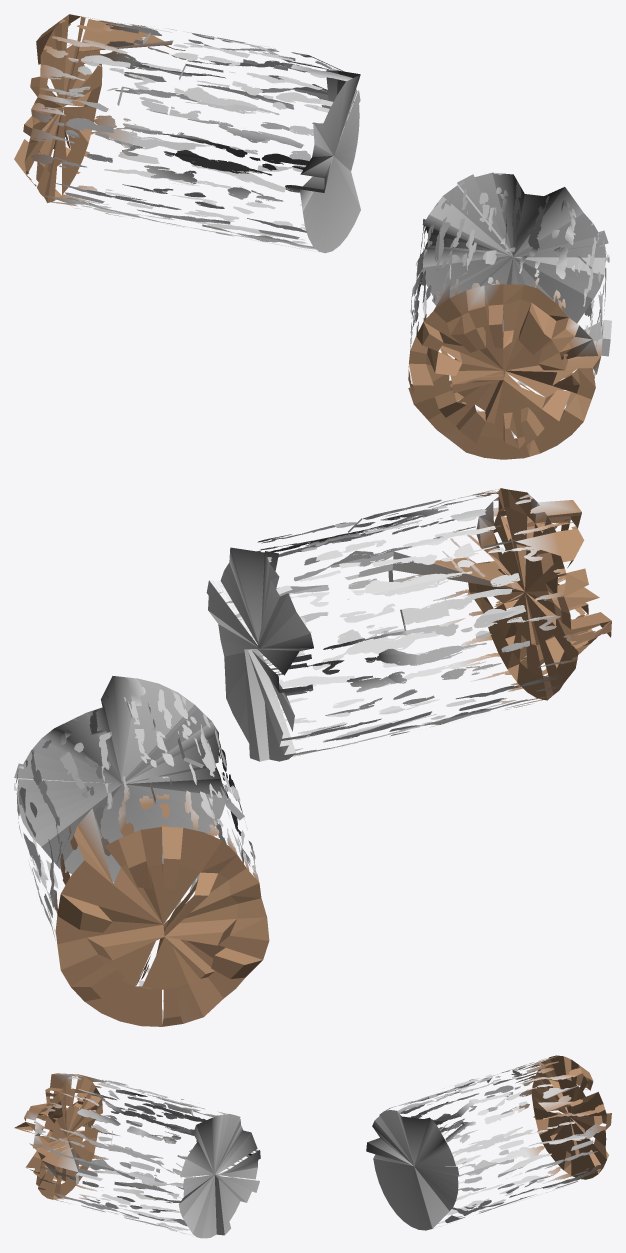
File: FBX_Log_broken.fbx
3 renders of one model, top to bottom at view 1: azimuth 30°, elevation 25°; view 2: azimuth 150°, elevation 25°; view 3: azimuth 270°, elevation 25°, orthographic. The views are drawn at different scales.
Visible parts, largest first — view 1: FBX_Log.001, FBX_Log; view 2: FBX_Log, FBX_Log.001; view 3: FBX_Log, FBX_Log.001.
Boxes of the visible parts, <box> form: FBX_Log.001: <box>408,172,611,459</box>; FBX_Log: <box>14,14,360,253</box>; FBX_Log: <box>14,676,269,1026</box>; FBX_Log.001: <box>206,488,611,761</box>; FBX_Log: <box>366,1055,611,1230</box>; FBX_Log.001: <box>14,1073,260,1238</box>.
Size of the model in its own units: 381 by 207 by 931.
